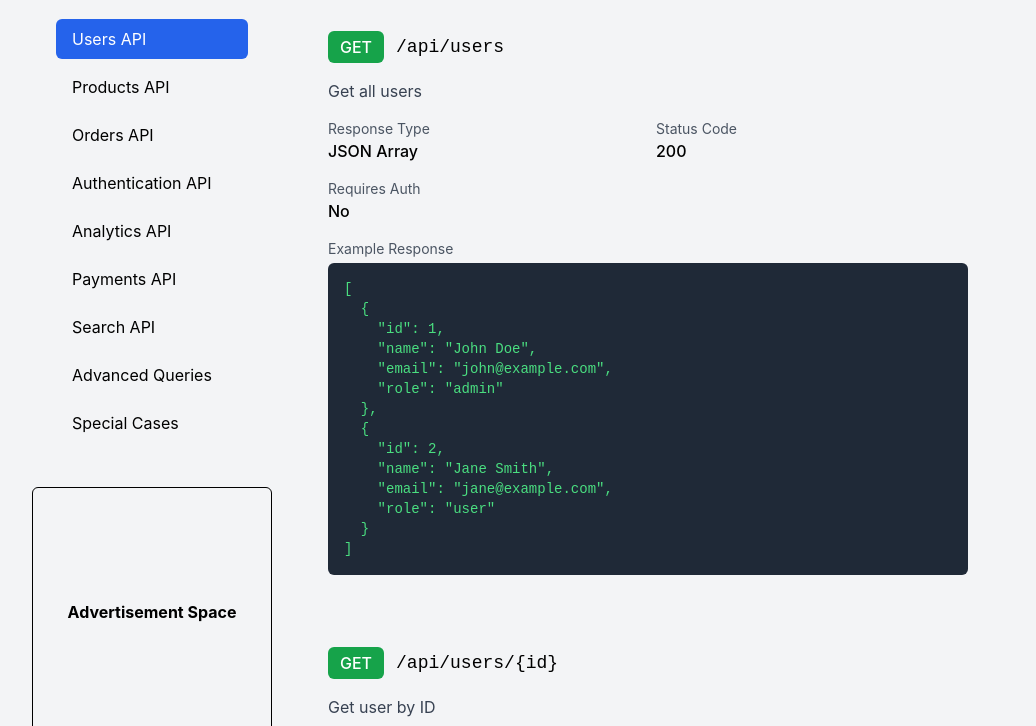
Test: ApiPlayground Component › renders advanced queries section
(page scrolled)
Click on Advanced Queries
Click the button "Advanced Queries". click: (152, 375)
box: [56,355,248,395]
(page scrolled)
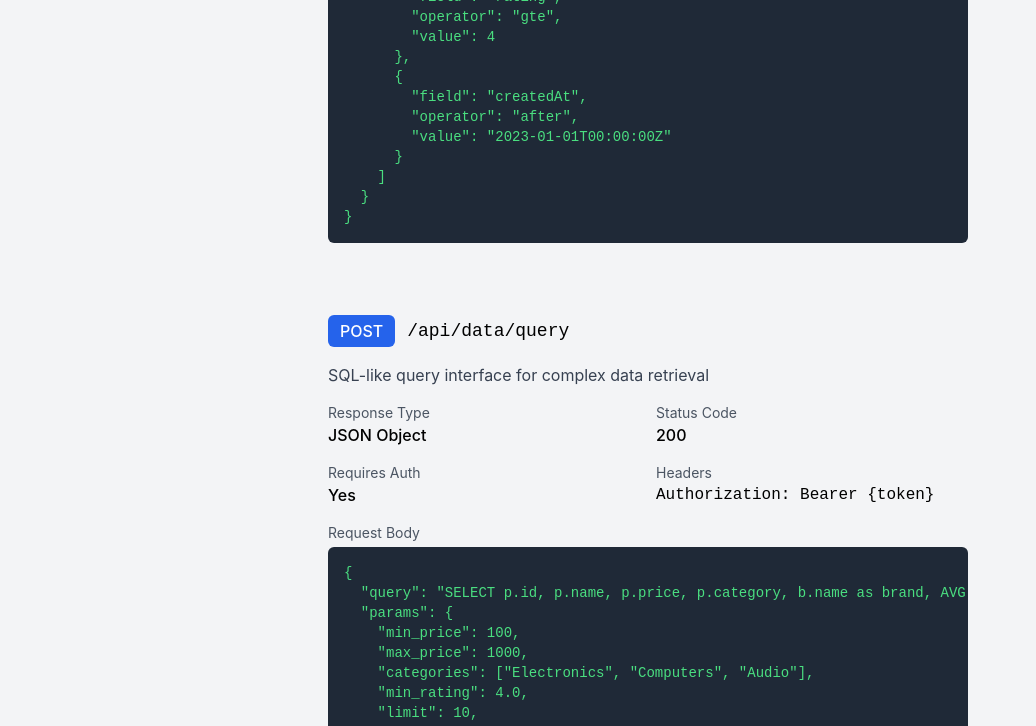
Check: the text "SQL-like query interface for complex data retrieval" is shown, box [328,365,709,385]
